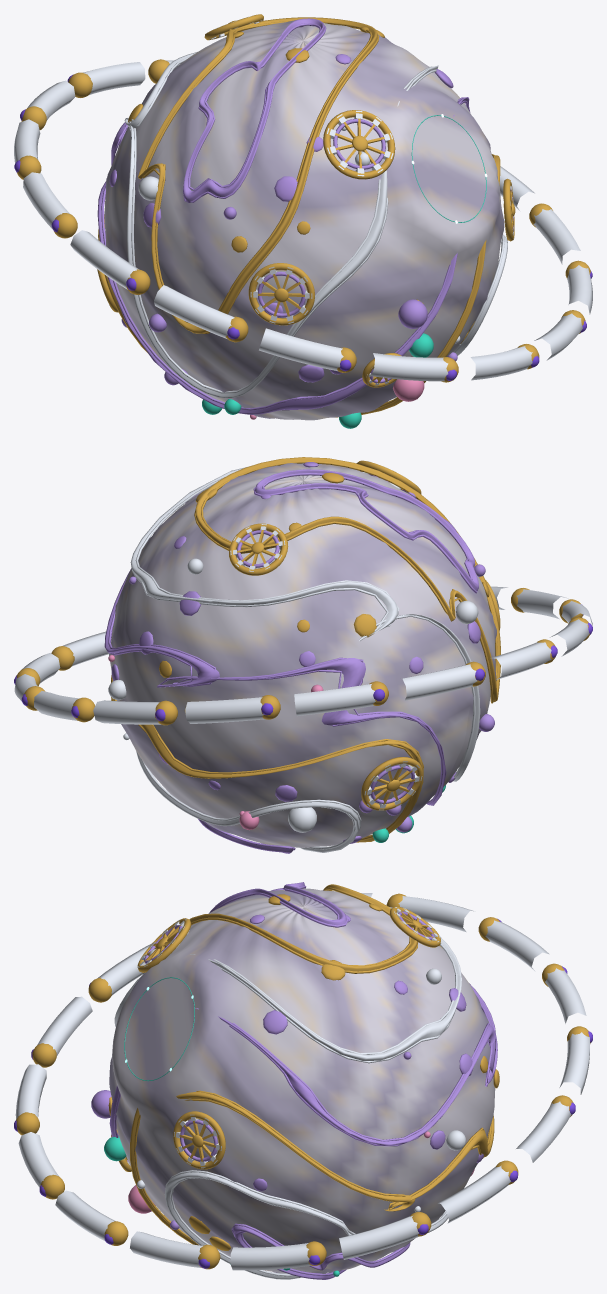
Rendered from planet-chewing.glb.
The picture shows the model from 3 angles, top to bottom: view 1: azimuth 30°, elevation 25°; view 2: azimuth 150°, elevation 25°; view 3: azimuth 270°, elevation 25°; orthographic projection. The views are drawn at different scales.
Parts seen in each view (by area): view 1: MyoSkills chewing / Sculpted pearl · vertex colour, MyoSkills chewing / Ivory ceramic, MyoSkills chewing / Champagne metal, MyoSkills chewing / Lavender pearl, MyoSkills chewing / Mint opaline resin, MyoSkills chewing / Violet satin resin, MyoSkills chewing / Blush ceramic; view 2: MyoSkills chewing / Sculpted pearl · vertex colour, MyoSkills chewing / Ivory ceramic, MyoSkills chewing / Champagne metal, MyoSkills chewing / Lavender pearl, MyoSkills chewing / Violet satin resin; view 3: MyoSkills chewing / Sculpted pearl · vertex colour, MyoSkills chewing / Ivory ceramic, MyoSkills chewing / Champagne metal, MyoSkills chewing / Lavender pearl, MyoSkills chewing / Mint opaline resin, MyoSkills chewing / Violet satin resin.
Part boxes in pixels (<box>): MyoSkills chewing / Sculpted pearl · vertex colour: <box>104,19,504,420</box>; MyoSkills chewing / Ivory ceramic: <box>14,14,592,398</box>; MyoSkills chewing / Champagne metal: <box>17,14,590,417</box>; MyoSkills chewing / Lavender pearl: <box>97,18,513,414</box>; MyoSkills chewing / Mint opaline resin: <box>202,115,486,428</box>; MyoSkills chewing / Violet satin resin: <box>14,75,592,380</box>; MyoSkills chewing / Blush ceramic: <box>250,379,424,419</box>; MyoSkills chewing / Sculpted pearl · vertex colour: <box>109,463,496,847</box>; MyoSkills chewing / Ivory ceramic: <box>14,461,592,852</box>; MyoSkills chewing / Champagne metal: <box>16,457,589,842</box>; MyoSkills chewing / Lavender pearl: <box>104,462,494,853</box>; MyoSkills chewing / Violet satin resin: <box>14,604,592,721</box>; MyoSkills chewing / Sculpted pearl · vertex colour: <box>109,888,495,1273</box>; MyoSkills chewing / Ivory ceramic: <box>15,893,589,1279</box>; MyoSkills chewing / Champagne metal: <box>16,884,590,1269</box>; MyoSkills chewing / Lavender pearl: <box>91,882,497,1279</box>; MyoSkills chewing / Mint opaline resin: <box>104,977,339,1276</box>; MyoSkills chewing / Violet satin resin: <box>14,918,592,1268</box>.
Bounding box in the file's own units: 2.99 × 2.07 × 3.02.
